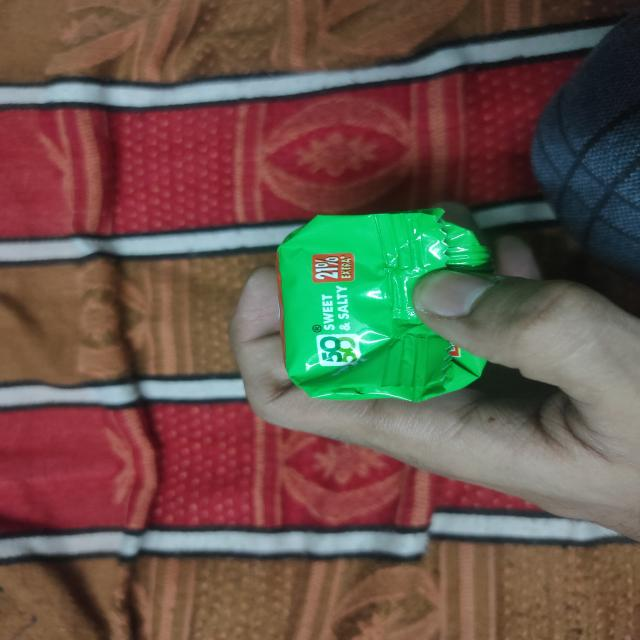biscuit: (272, 203, 500, 412)
